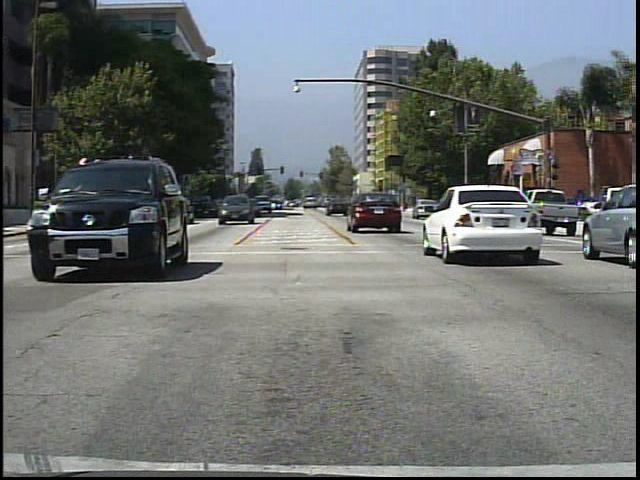person: (542, 191, 561, 228), (499, 188, 516, 224)
